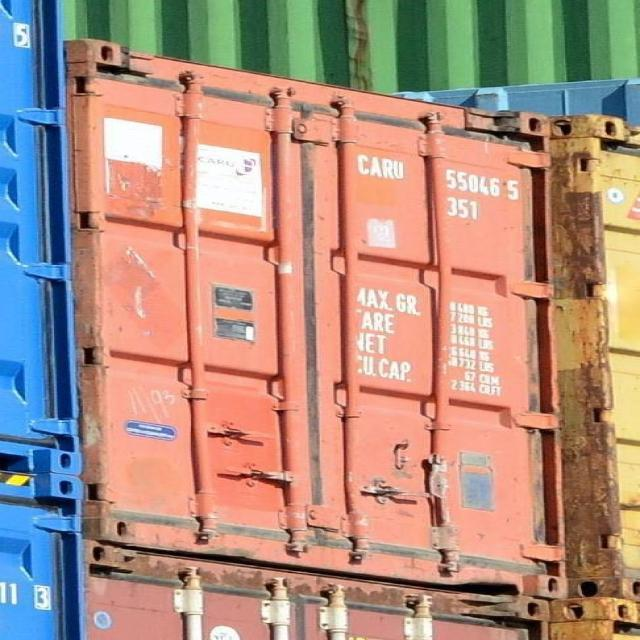ISO: (435, 194, 493, 222)
container_number: (353, 152, 530, 196)
